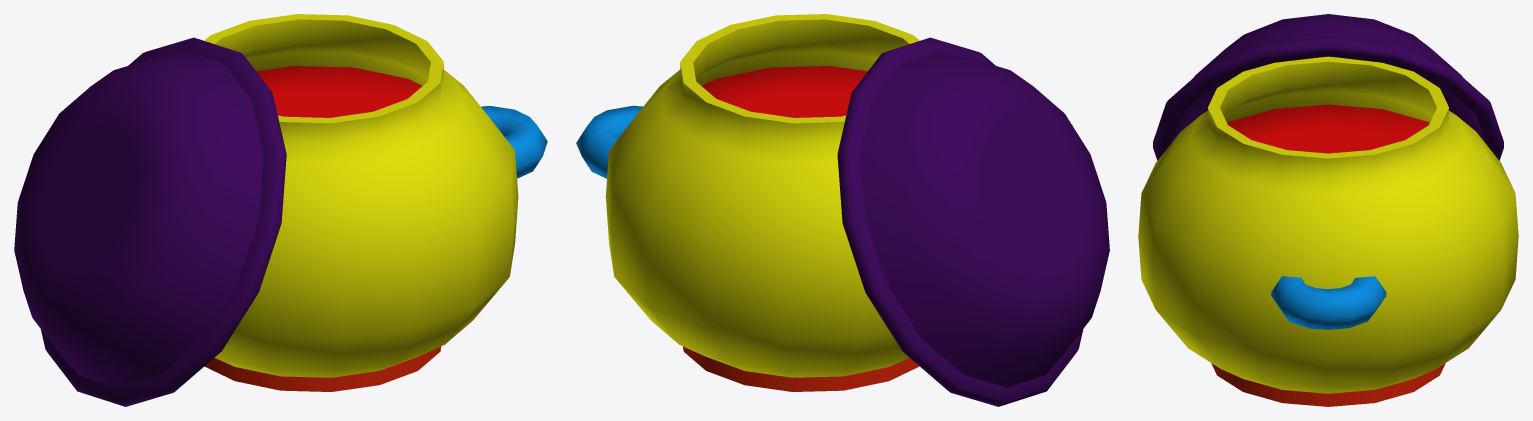
Rendered from Hangari.fbx.
3 renders of one model, left to right at view 1: azimuth 30°, elevation 25°; view 2: azimuth 150°, elevation 25°; view 3: azimuth 270°, elevation 25°, orthographic. The views are drawn at different scales.
Parts seen in each view (by area): view 1: Hangari; view 2: Hangari; view 3: Hangari.
Boxes of the visible parts, <box> form: Hangari: <box>14,14,547,406</box>; Hangari: <box>576,14,1109,406</box>; Hangari: <box>1138,14,1518,406</box>.
Size of the model in its own units: 41.82 by 24.63 by 30.1.
